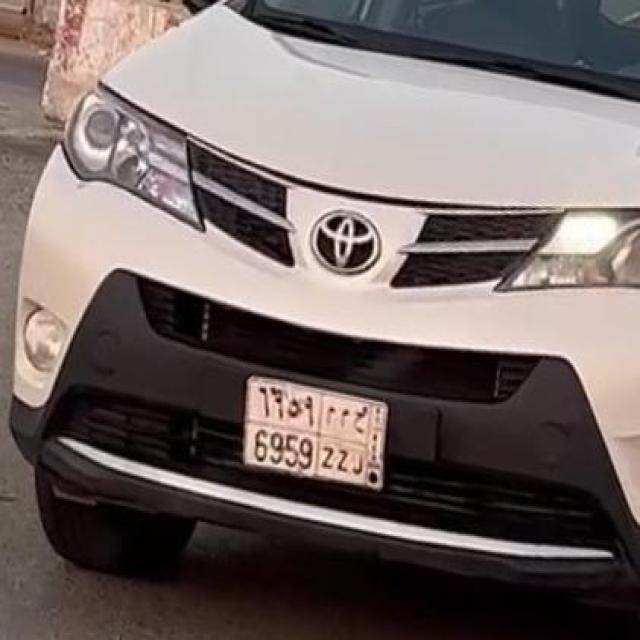Car-plate: (228, 362, 415, 515)
